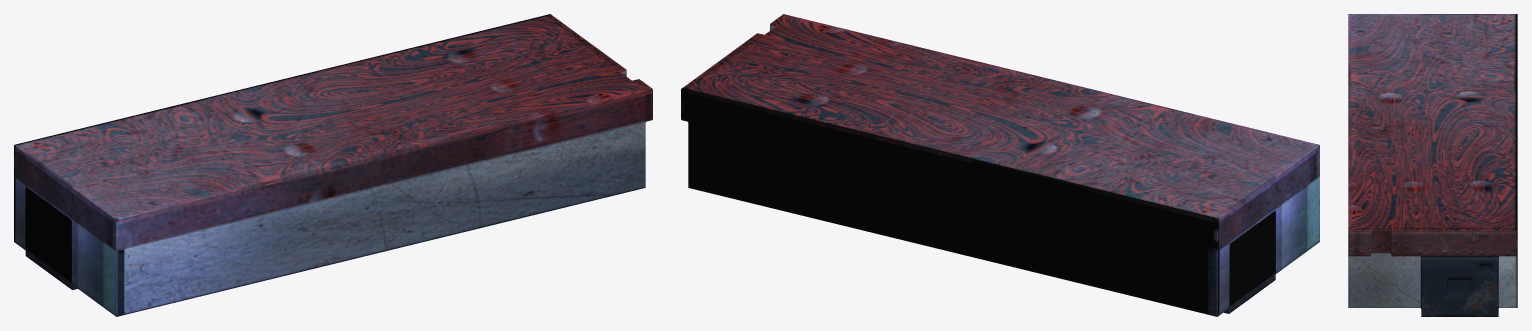
File: Platform3.fbx
3 views of the same model, side by side, from view 1: azimuth 30°, elevation 25°; view 2: azimuth 150°, elevation 25°; view 3: azimuth 270°, elevation 25° (orthographic). The views are drawn at different scales.
Parts seen in each view (by area): view 1: Platform 3; view 2: Platform 3; view 3: Platform 3.
Boxes of the visible parts, x1=… form: Platform 3: x1=14, y1=14, x2=652, y2=316; Platform 3: x1=681, y1=14, x2=1319, y2=316; Platform 3: x1=1348, y1=14, x2=1517, y2=316.
Size of the model in its own units: 415 by 75.7 by 136.
